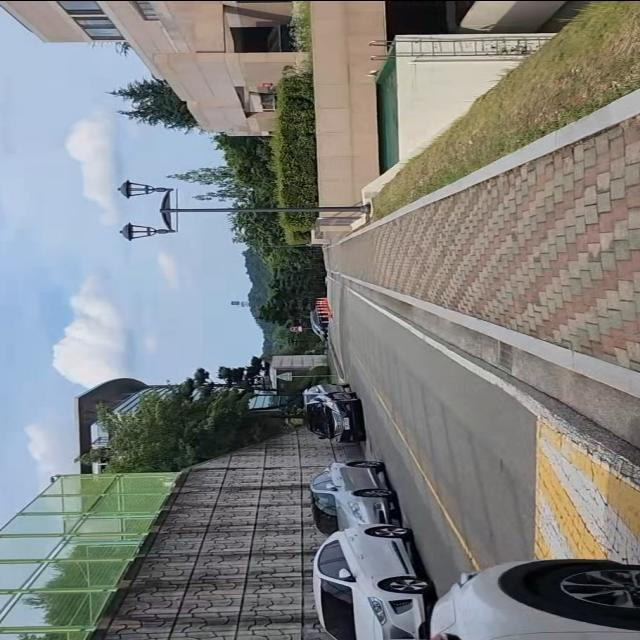obstacle: (301, 452, 448, 640), (385, 554, 640, 640)
road: (325, 273, 640, 610)
sidewalk: (322, 79, 640, 395)
